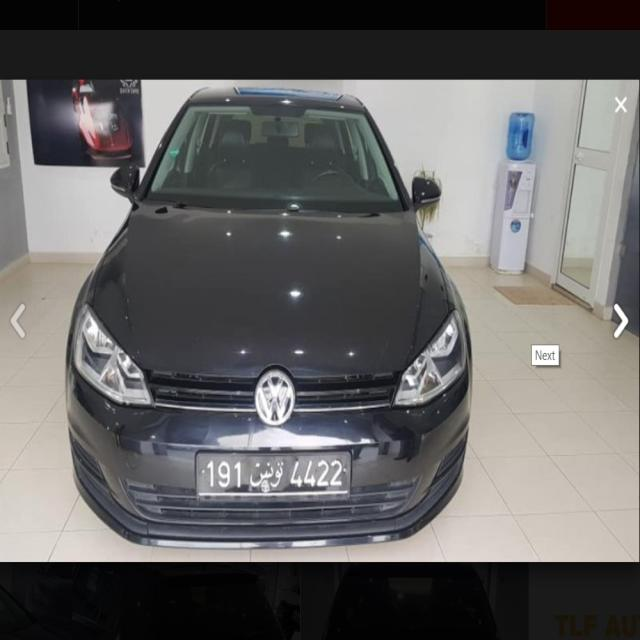LP: (195, 446, 352, 502)
